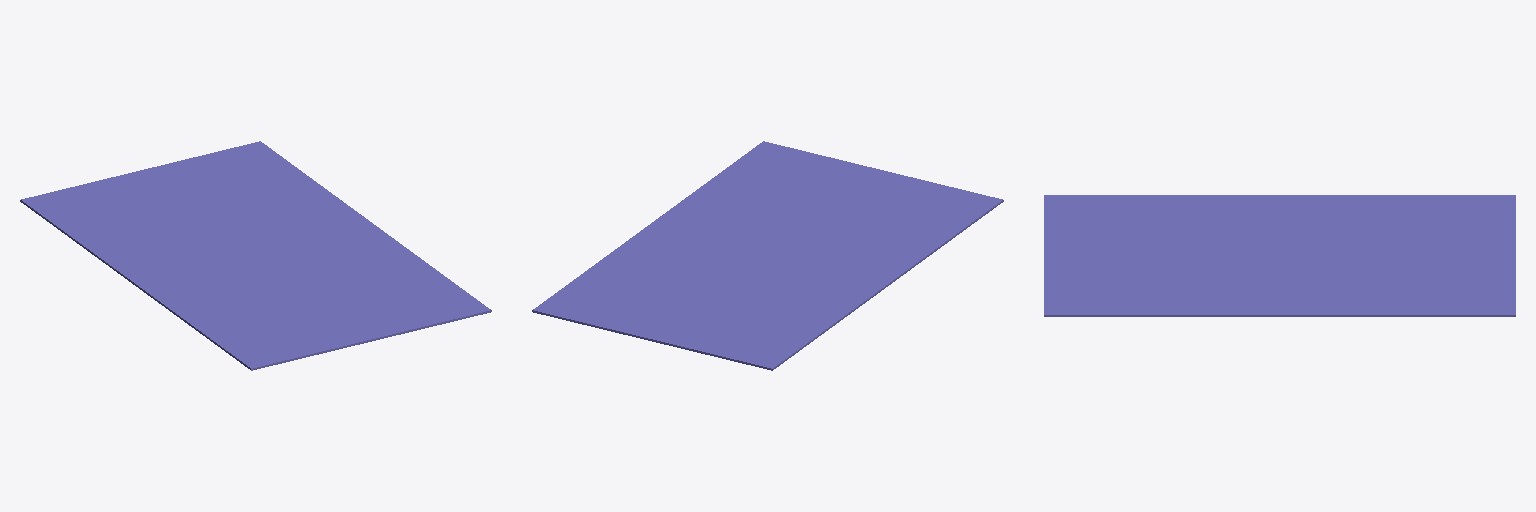
The robot description file, URDF, robot "cardboard":
<?xml version="1.0" ?>
<robot name="cardboard">
  <link name="cardboardBody">
    <inertial>
      <origin rpy="0 0 0" xyz="0 0 0"/>
       <mass value="2.0"/>
       <inertia ixx="1" ixy="0" ixz="0" iyy="1" iyz="0" izz="1"/>
    </inertial>
    <visual>
      <origin rpy="0 0 0" xyz="0 0 0"/>
      <geometry>
		    <!-- <box size="0.24 0.4 0.002"/> -->
        <mesh filename="box.stl" scale="0.6 1 0.02"/>
      </geometry>
       <material name="white">
        <color rgba="0.5 0.5 0.8 1"/>
      </material>
    </visual>
    <collision>
      <origin rpy="0 0 0" xyz="0 0 0"/>
      <geometry>
	 	    <box size="0.24 0.4 0.002"/>
      </geometry>
    </collision>
  </link>
</robot>

--- Facts derived from the render (not from the file) ---
3 views of the same robot in one strip: view 1: azimuth 30°, elevation 25°; view 2: azimuth 150°, elevation 25°; view 3: azimuth 270°, elevation 25° (orthographic).
Model cardboard with 1 links and 0 joints (none), rooted at cardboardBody, posed all joints at 0.
Links seen in each view (by area): view 1: cardboardBody; view 2: cardboardBody; view 3: cardboardBody.
Link boxes in pixels (box(x1,y1,x2,y2)): cardboardBody: box(20, 141, 491, 370); cardboardBody: box(532, 141, 1003, 370); cardboardBody: box(1044, 195, 1515, 316).
Size in the robot's own frame: 0.24 by 0.4 by 0.002 metres.
Meshes: 1 distinct files referenced, 1 mesh visuals loaded (1 binary STL).
